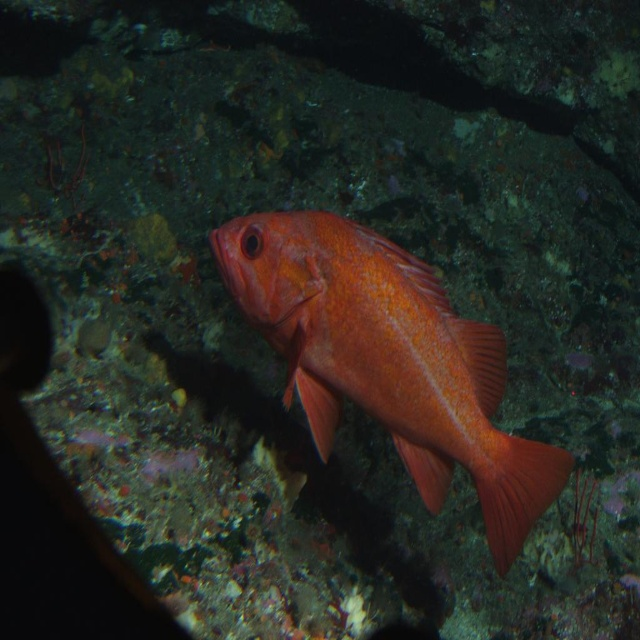Goldfish: (209, 188, 595, 588)
